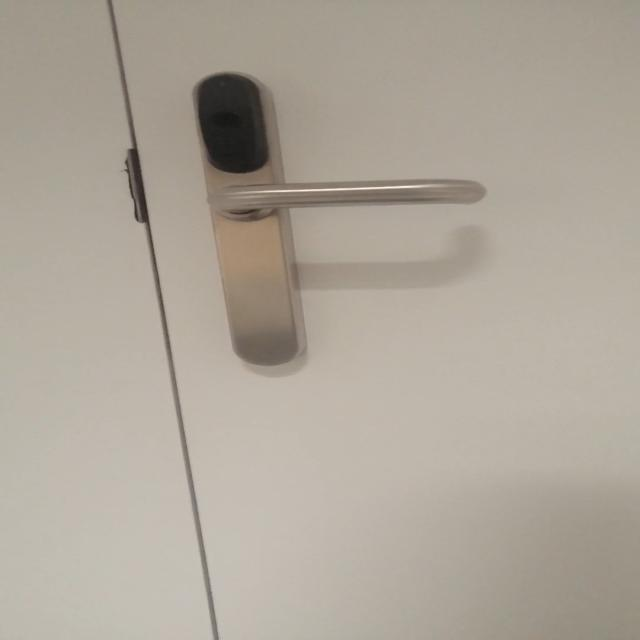door_handle: (184, 175, 510, 229)
